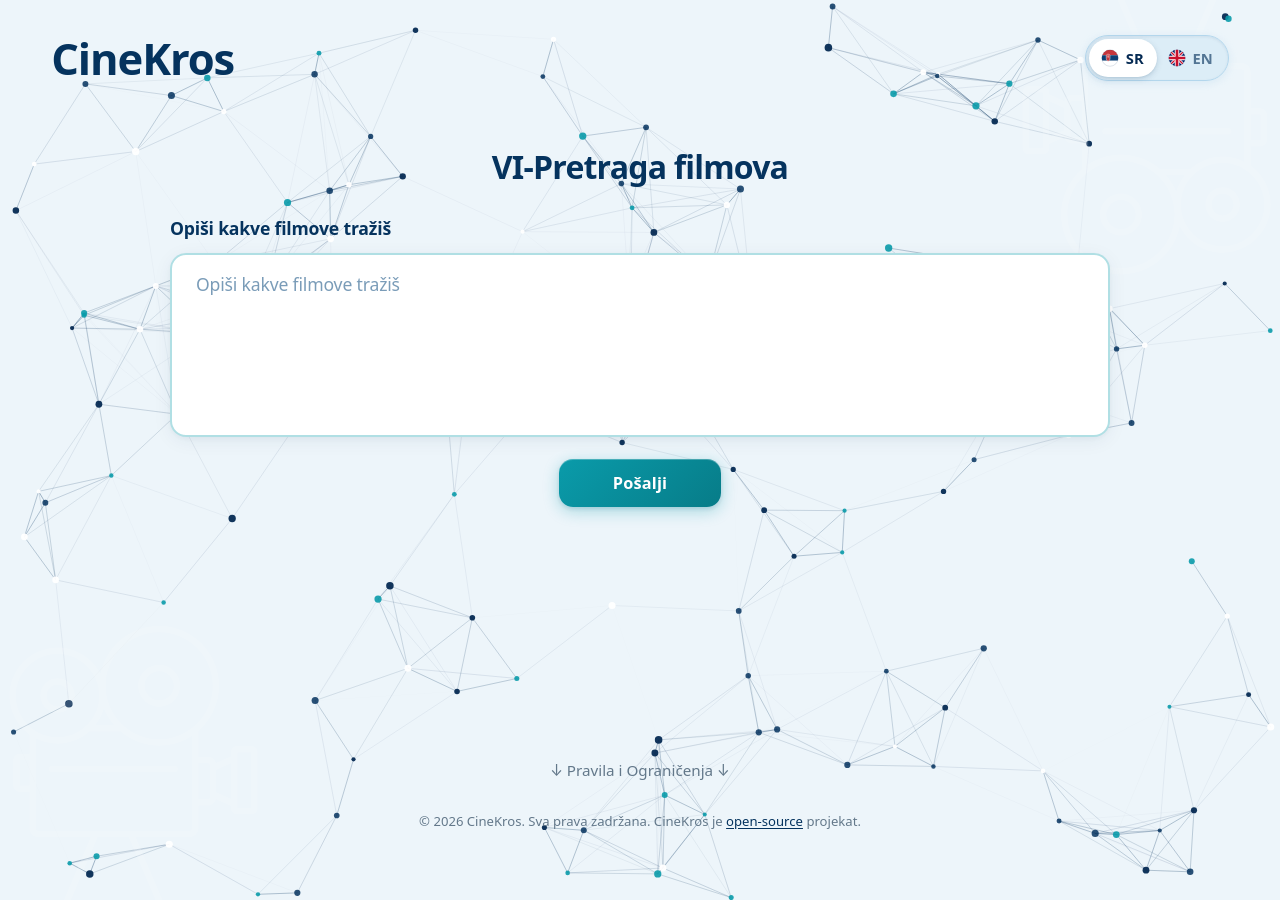
v2 recommendation frontend › starts in Serbian and switches locale with pressed state
The width and height of the screenshot is (1280, 900).
Expected: the heading "VI-Pretraga filmova" is shown, 492,145 -> 788,188
Click the button "EN" at (1190, 58), box 1156,39 -> 1225,77
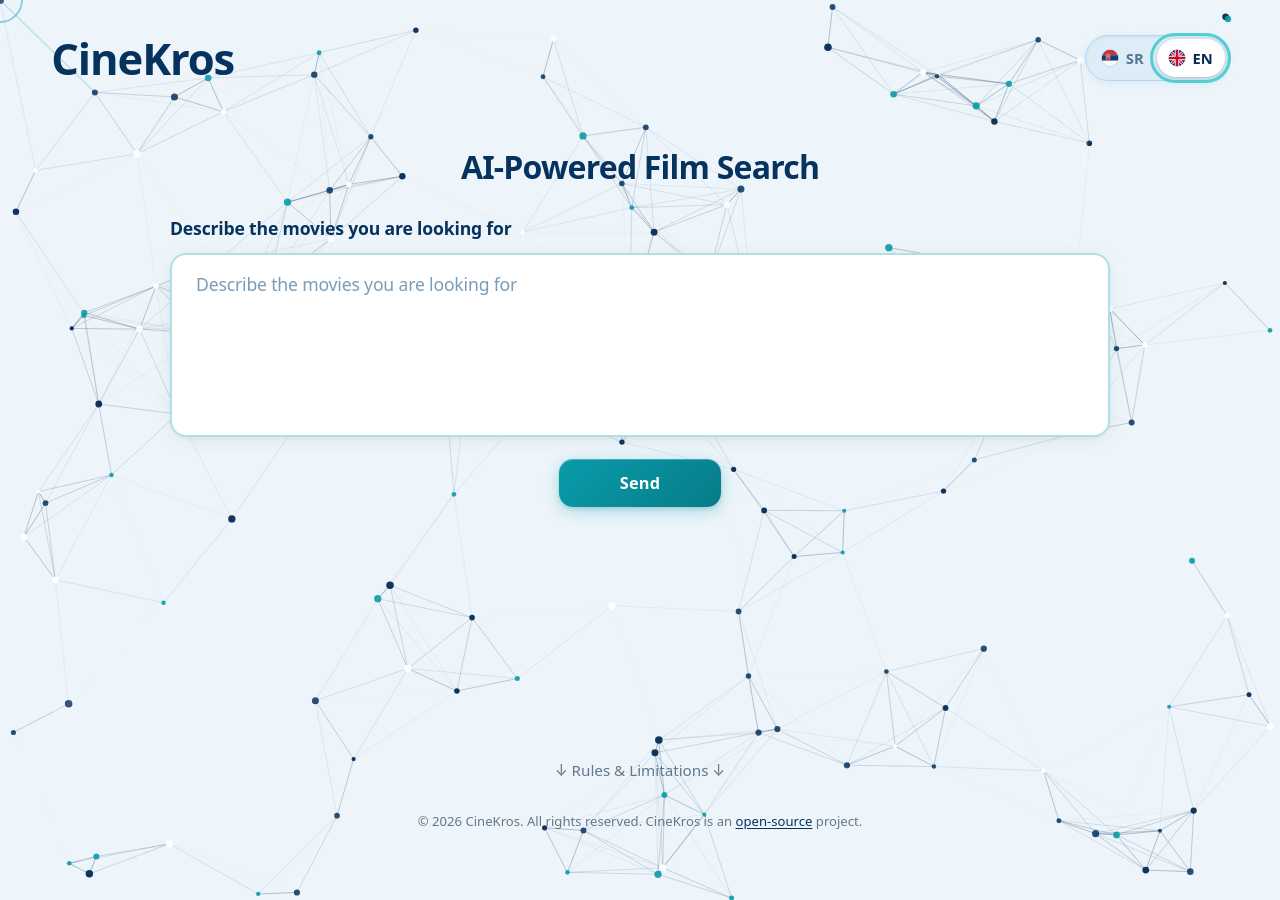
Now the heading "AI-Powered Film Search" is shown, box 461,145 -> 819,188
